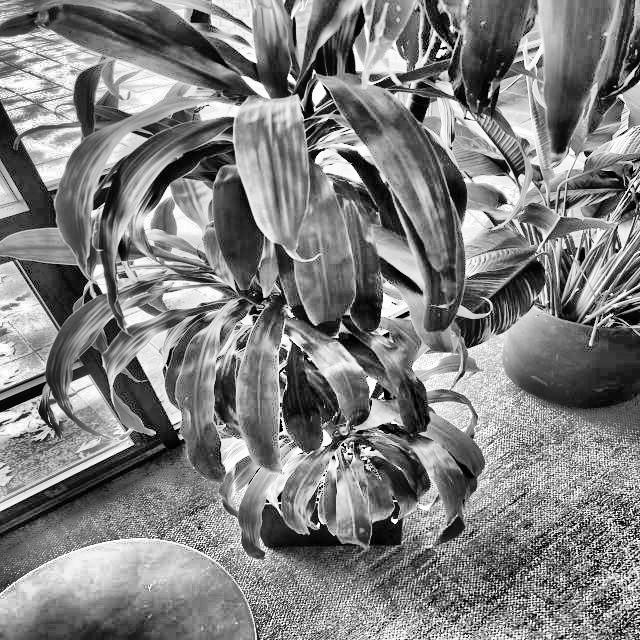plants: (104, 0, 492, 538), (458, 0, 640, 417)
